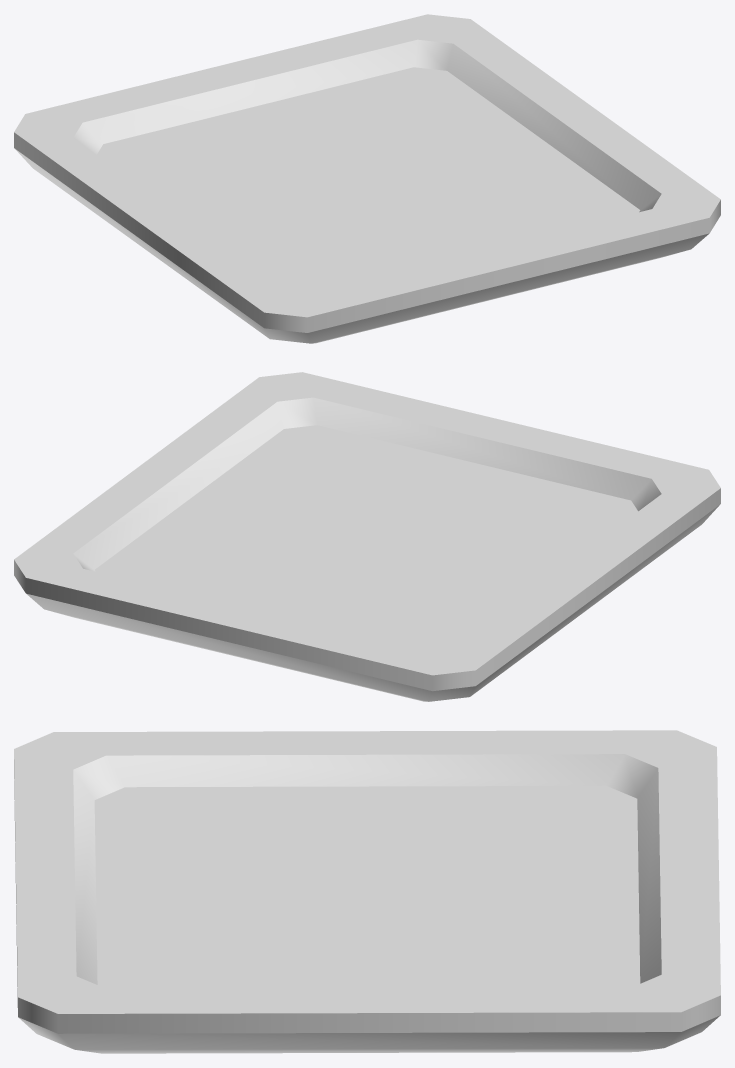
File: Plate_3_B.fbx
The picture shows the model from 3 angles, top to bottom: view 1: azimuth 30°, elevation 25°; view 2: azimuth 150°, elevation 25°; view 3: azimuth 270°, elevation 25°; orthographic projection. The views are drawn at different scales.
Parts seen in each view (by area): view 1: Plate_3_B; view 2: Plate_3_B; view 3: Plate_3_B.
Part boxes in pixels (x1,y1,x2,y2): Plate_3_B: (14, 14, 720, 343); Plate_3_B: (14, 372, 720, 701); Plate_3_B: (14, 730, 720, 1053).
Bounding box in the file's own units: 25.12 × 2.47 × 26.46.
